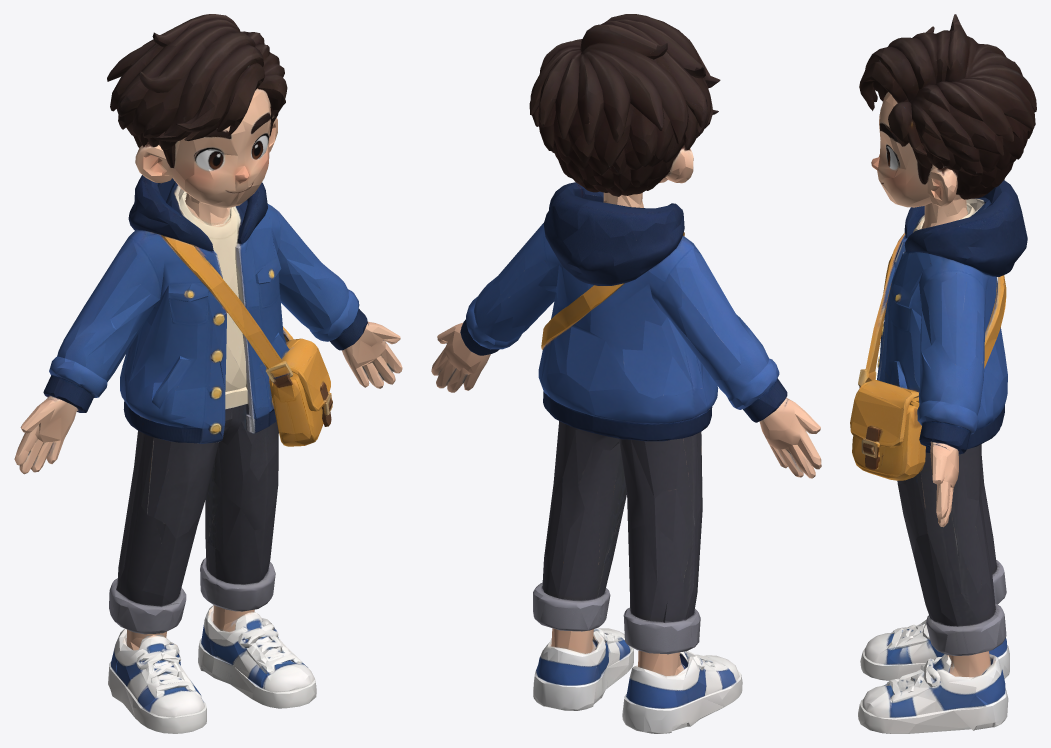
The model's file is hero_meshy_source.glb.
3 views of the same model, side by side, from view 1: azimuth 30°, elevation 25°; view 2: azimuth 150°, elevation 25°; view 3: azimuth 270°, elevation 25° (orthographic).
Parts seen in each view (by area): view 1: output_unwrapped; view 2: output_unwrapped; view 3: output_unwrapped.
Part boxes in pixels (x1,y1,x2,y2): output_unwrapped: (14, 14, 402, 733); output_unwrapped: (431, 14, 821, 733); output_unwrapped: (850, 14, 1036, 733).
Size of the model in its own units: 1.15 by 1.9 by 0.4857.
Materials: 1 (1 with a texture image).
